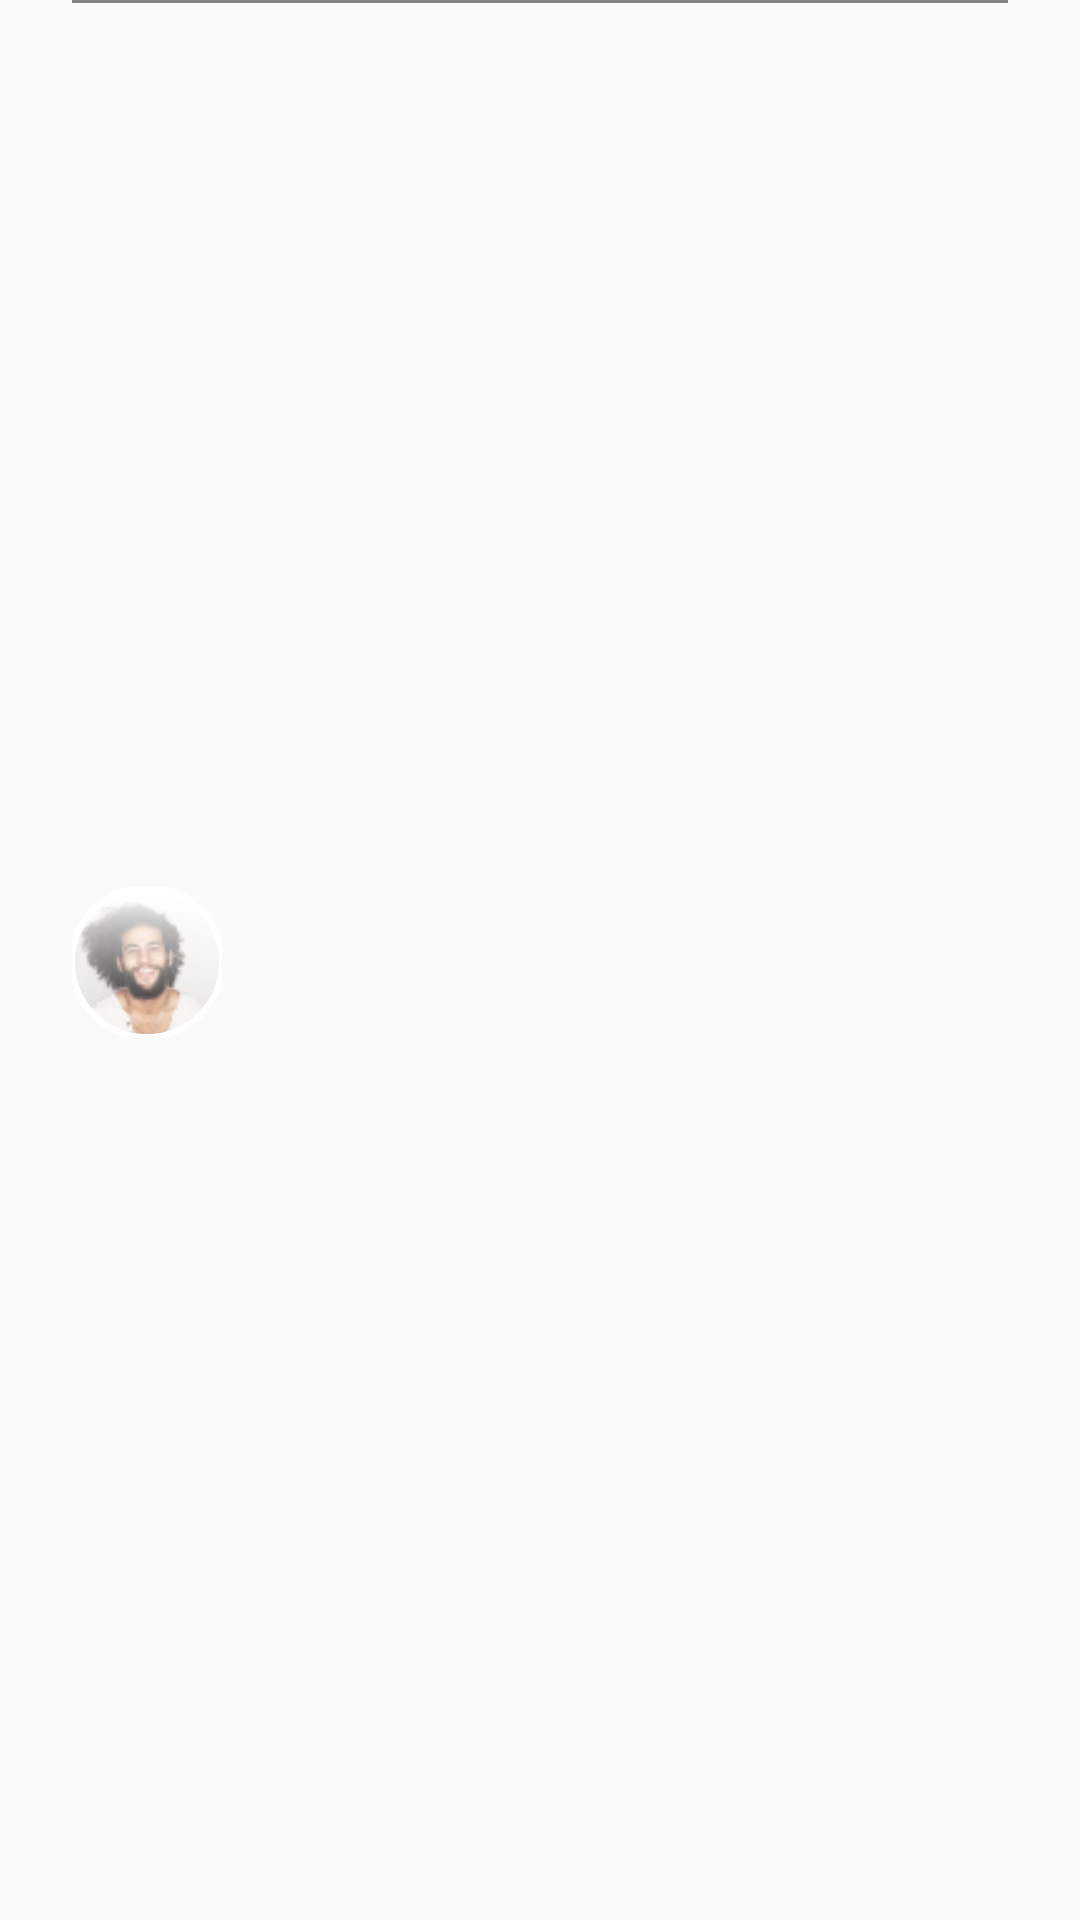

Icons on this 1080px x 1920px Android screen, each with the point to tap as (x=x, y=y):
user profile: (x=141, y=970)
